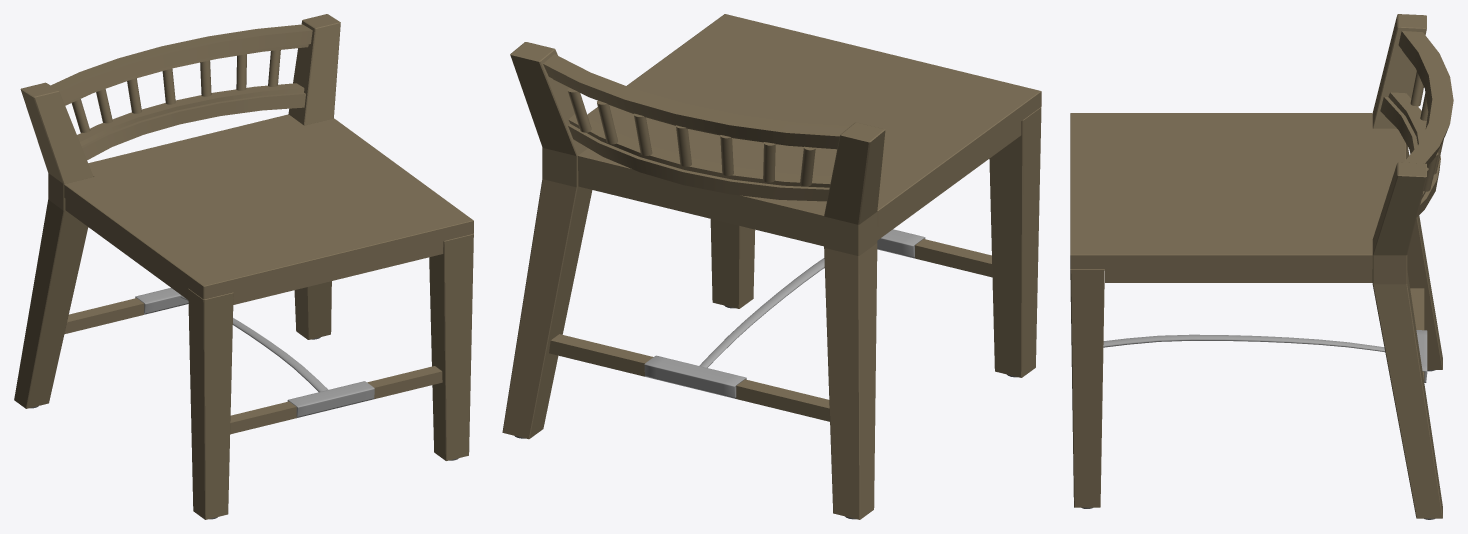
Rendered from sh-scopia-bar-chair.glb.
The picture shows the model from 3 angles, left to right: view 1: azimuth 30°, elevation 25°; view 2: azimuth 150°, elevation 25°; view 3: azimuth 270°, elevation 25°; orthographic projection. The views are drawn at different scales.
Parts seen in each view (by area): view 1: wood_stool_Cube.001, stool_link_Cube.002; view 2: wood_stool_Cube.001, stool_link_Cube.002; view 3: wood_stool_Cube.001, stool_link_Cube.002.
Part boxes in pixels (bbox=[...]): wood_stool_Cube.001: bbox=[14, 14, 473, 519]; stool_link_Cube.002: bbox=[135, 288, 374, 417]; wood_stool_Cube.001: bbox=[502, 14, 1041, 519]; stool_link_Cube.002: bbox=[644, 229, 925, 398]; wood_stool_Cube.001: bbox=[1070, 14, 1453, 519]; stool_link_Cube.002: bbox=[1103, 330, 1427, 382].
Bounding box in the file's own units: 1 × 1 × 1.
